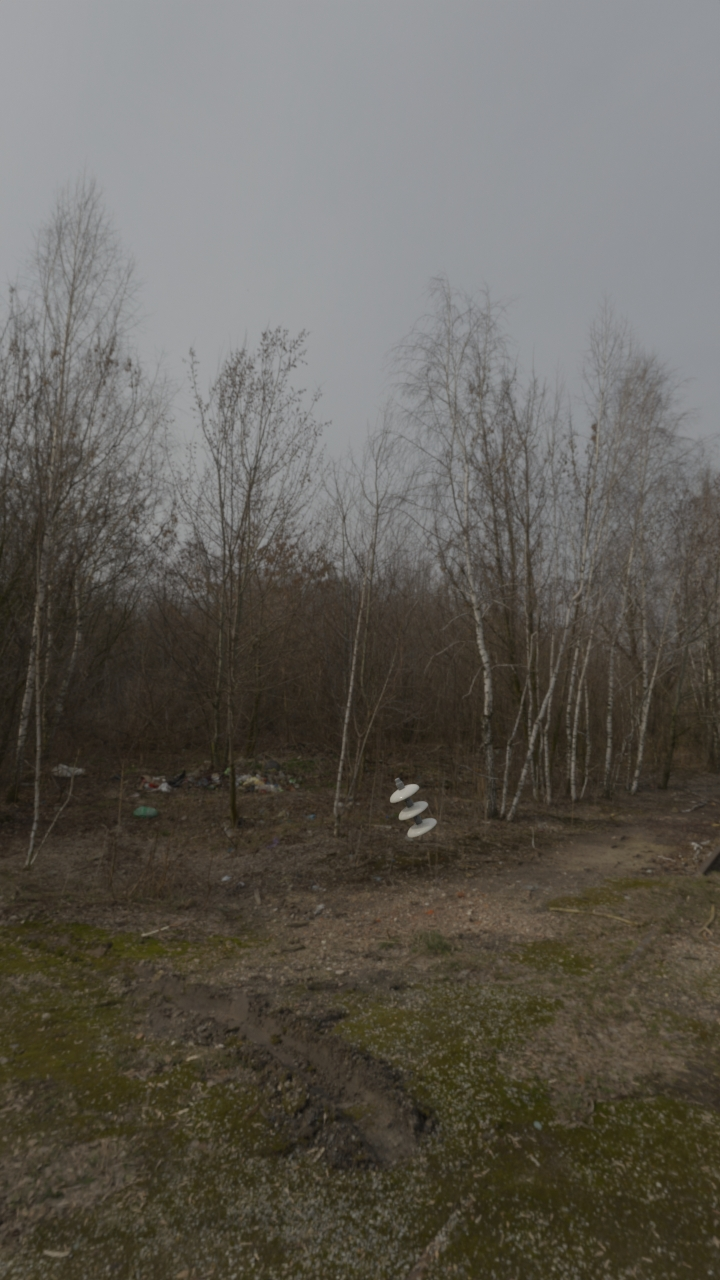ceramicinsulators: (391, 777, 437, 838)
